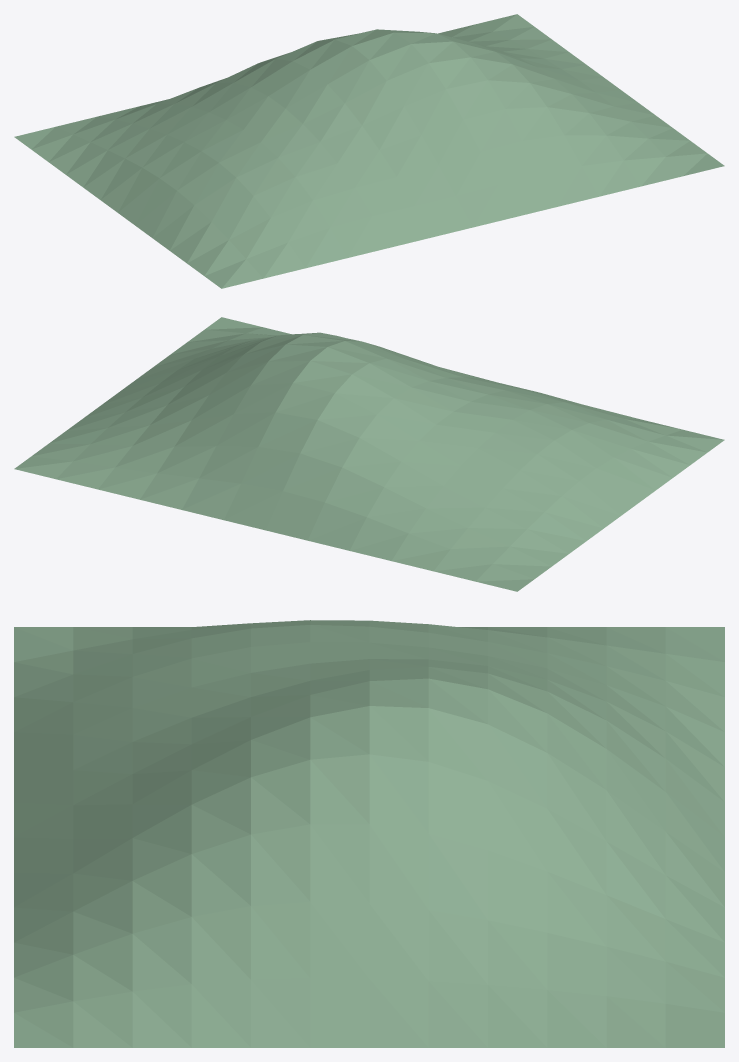
File: golden_mossbank.glb
3 renders of one model, top to bottom at view 1: azimuth 30°, elevation 25°; view 2: azimuth 150°, elevation 25°; view 3: azimuth 270°, elevation 25°, orthographic. The views are drawn at different scales.
Parts seen in each view (by area): view 1: GS_MossBank_Slope_GrassMeadow; view 2: GS_MossBank_Slope_GrassMeadow; view 3: GS_MossBank_Slope_GrassMeadow.
Boxes of the visible parts, x1=… form: GS_MossBank_Slope_GrassMeadow: x1=14, y1=14, x2=724, y2=288; GS_MossBank_Slope_GrassMeadow: x1=14, y1=317, x2=724, y2=591; GS_MossBank_Slope_GrassMeadow: x1=14, y1=620, x2=724, y2=1047.
Size of the model in its own units: 28 by 5.17 by 20.
